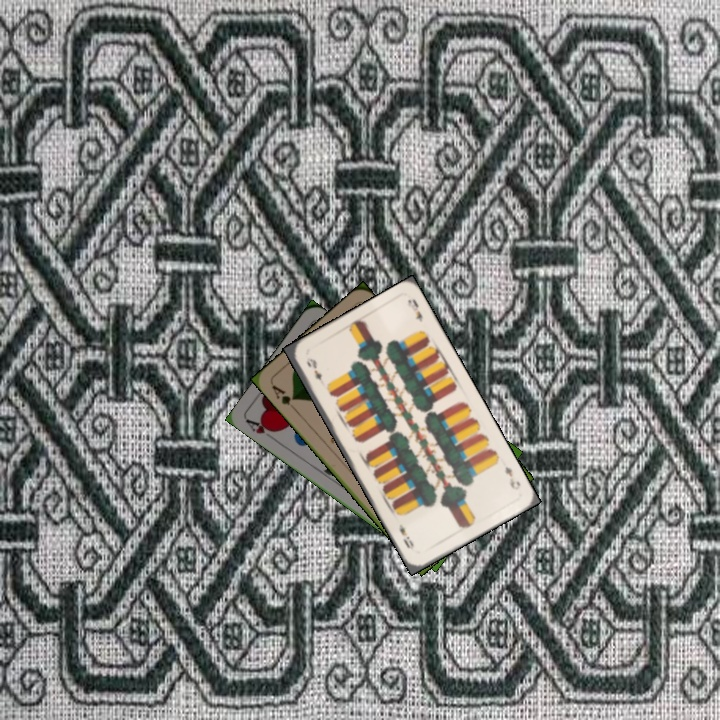E9: (302, 354, 325, 383), (501, 462, 523, 492)
GA: (267, 381, 299, 413)
HA: (242, 415, 280, 443)
